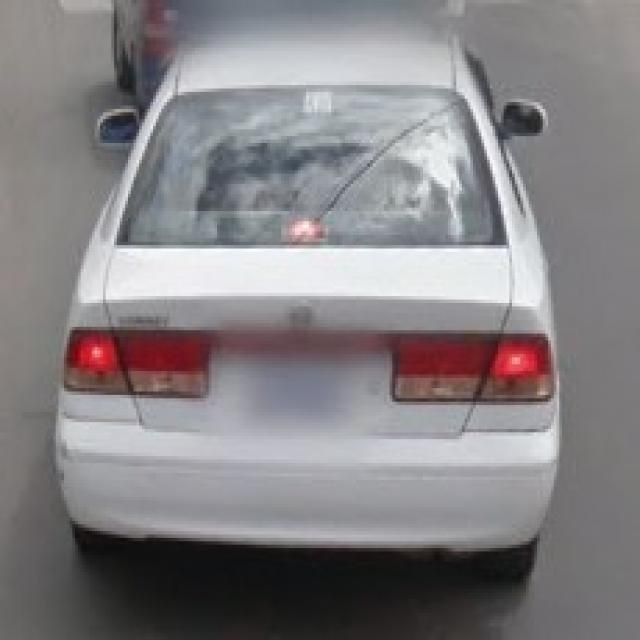Car: (64, 46, 560, 579)
